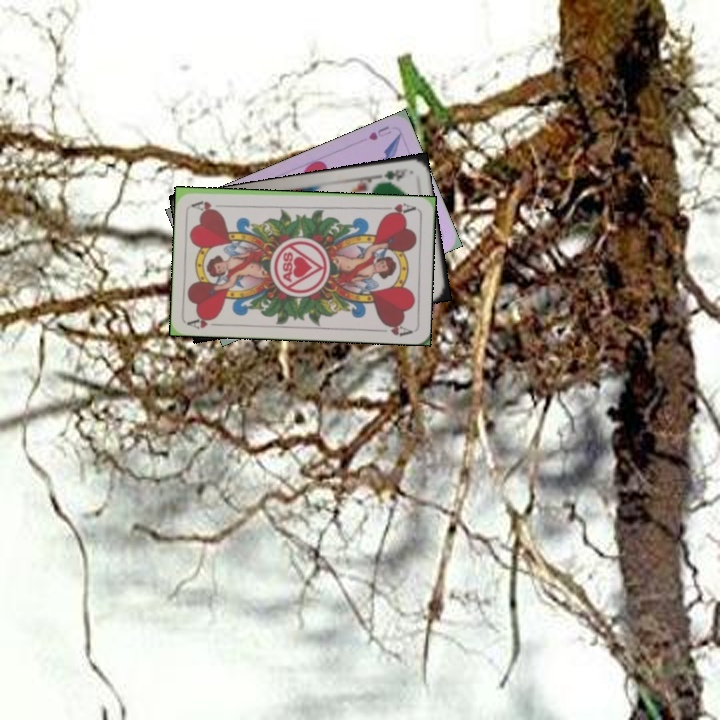GK: (373, 165, 411, 182)
HA: (185, 312, 226, 332), (381, 199, 419, 218)
HU: (365, 122, 394, 143)
